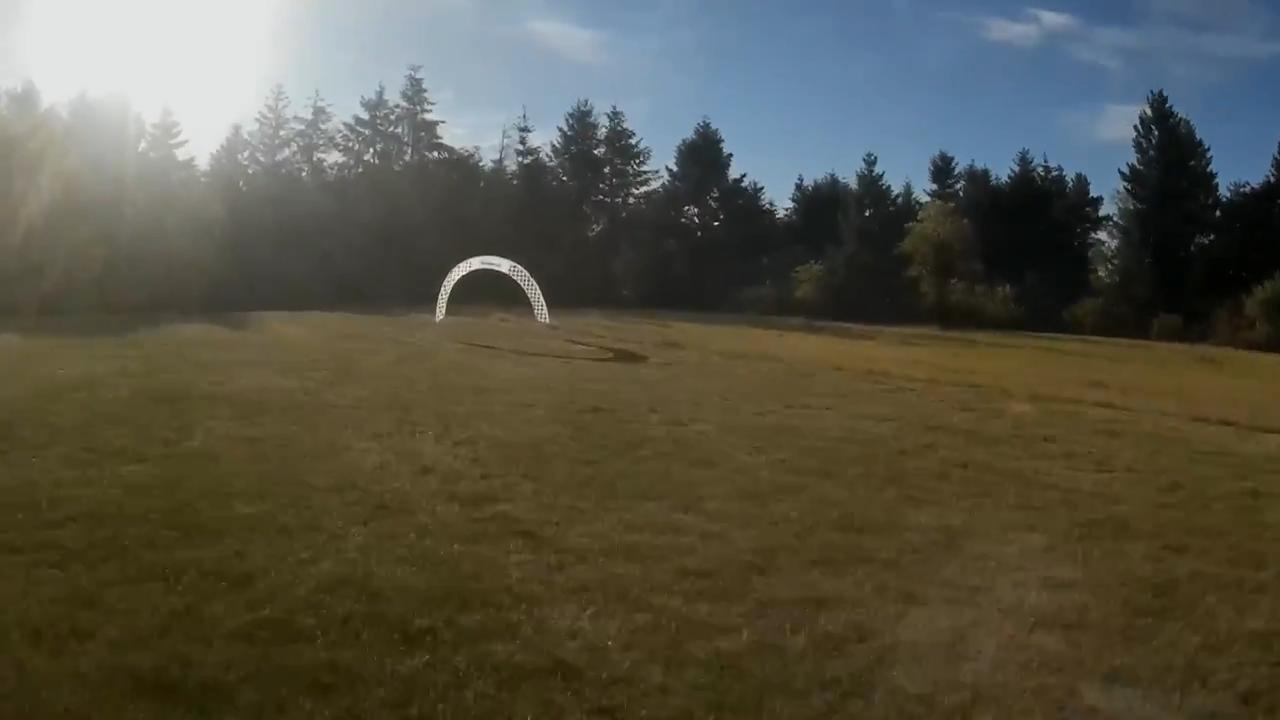gate: (435, 255, 550, 326)
